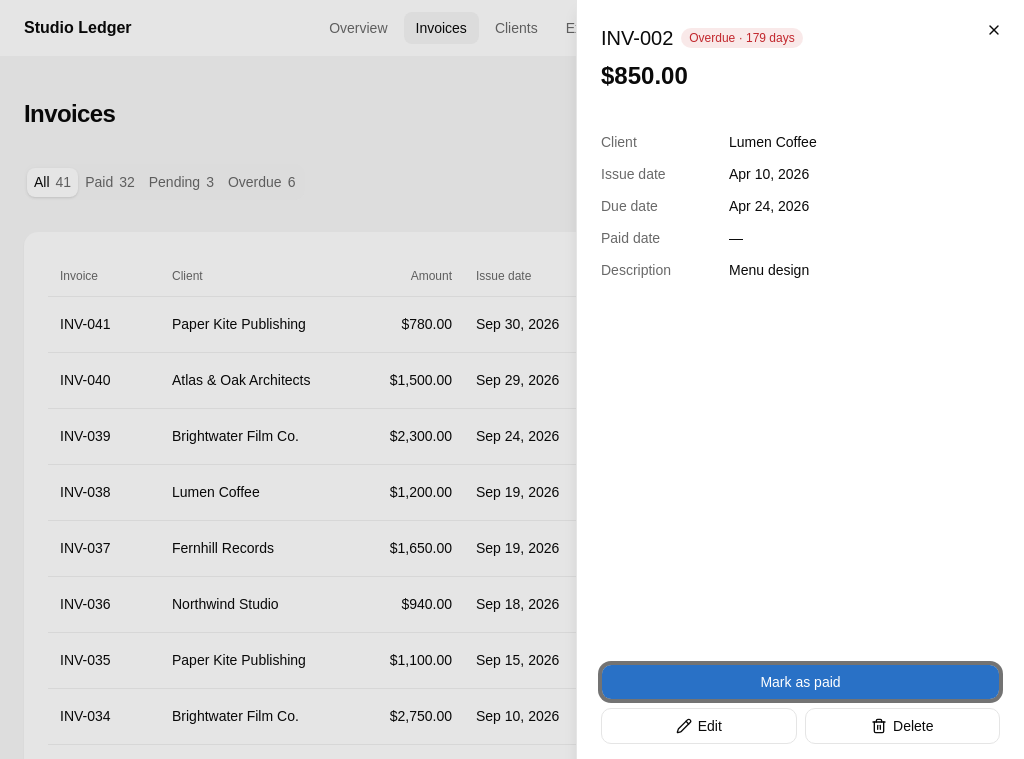
Test: Saving, clearing and first render (DATA-3, DATA-7, UX-3) › DATA-3: a change that cannot be saved shows the message once, and the app keeps working
Click the button "Delete": {"x": 902, "y": 726} [804,708,1000,744]
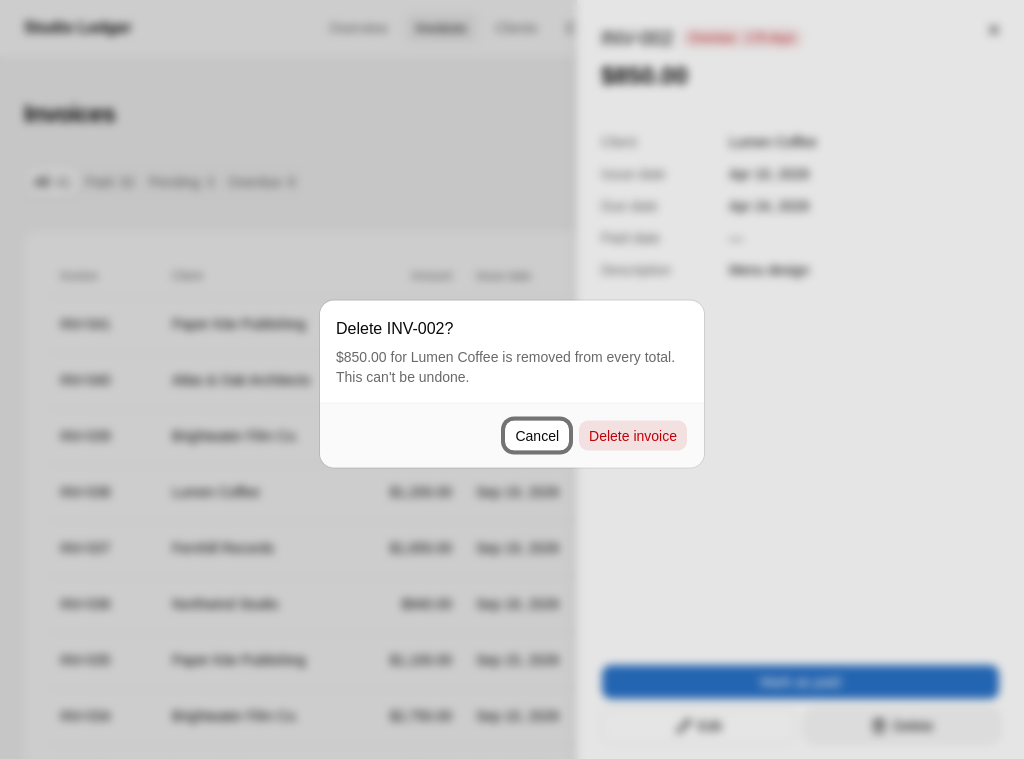
Click the button "Delete invoice": {"x": 633, "y": 436} [578,420,688,452]
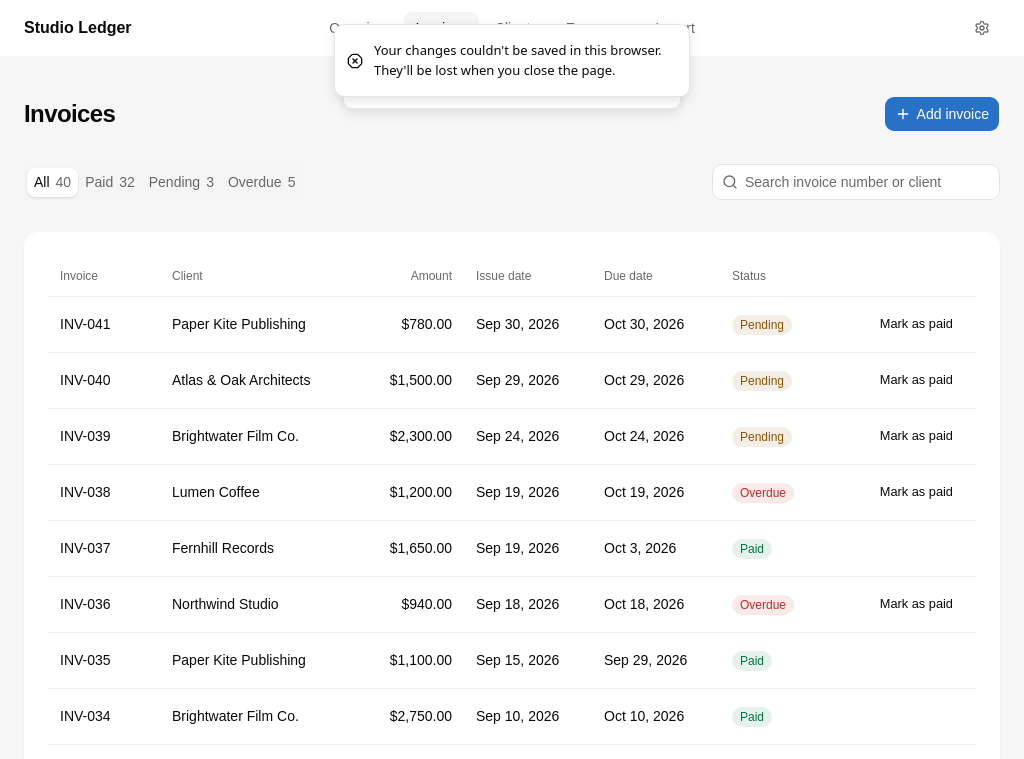
Expected: the text "Your changes couldn't be saved in this browser. They'll be lost when you close the page." is shown, [374,41,662,78]
Expected: the tab "All 40" is shown, [27,168,78,196]
# A second failed save doesn't repeat the warning.
Click the link "INV-041": {"x": 85, "y": 324} [60,316,111,332]
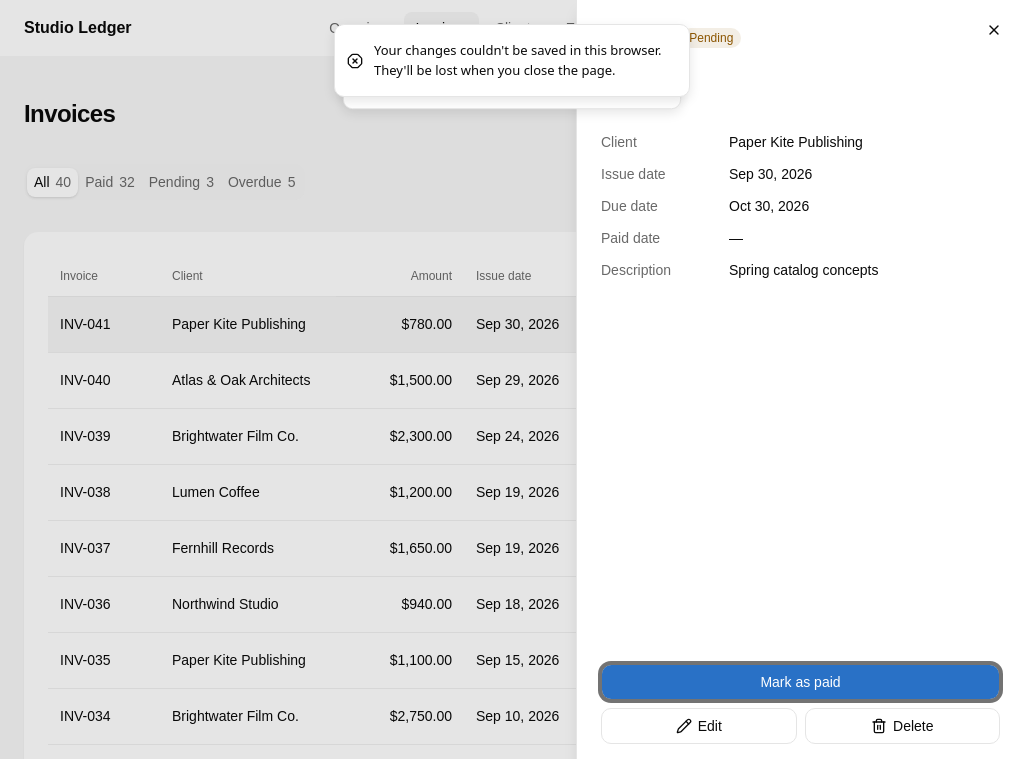
Click the button "Delete": {"x": 902, "y": 726} [804,708,1000,744]
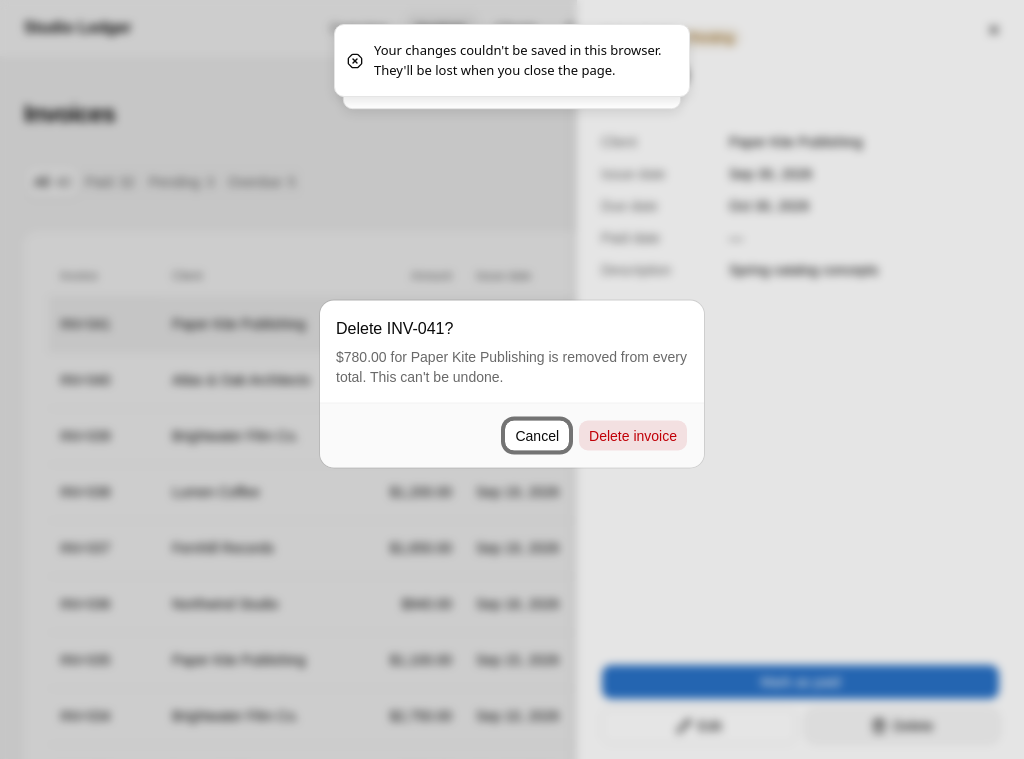
Click the button "Delete invoice": {"x": 633, "y": 436} [578,420,688,452]
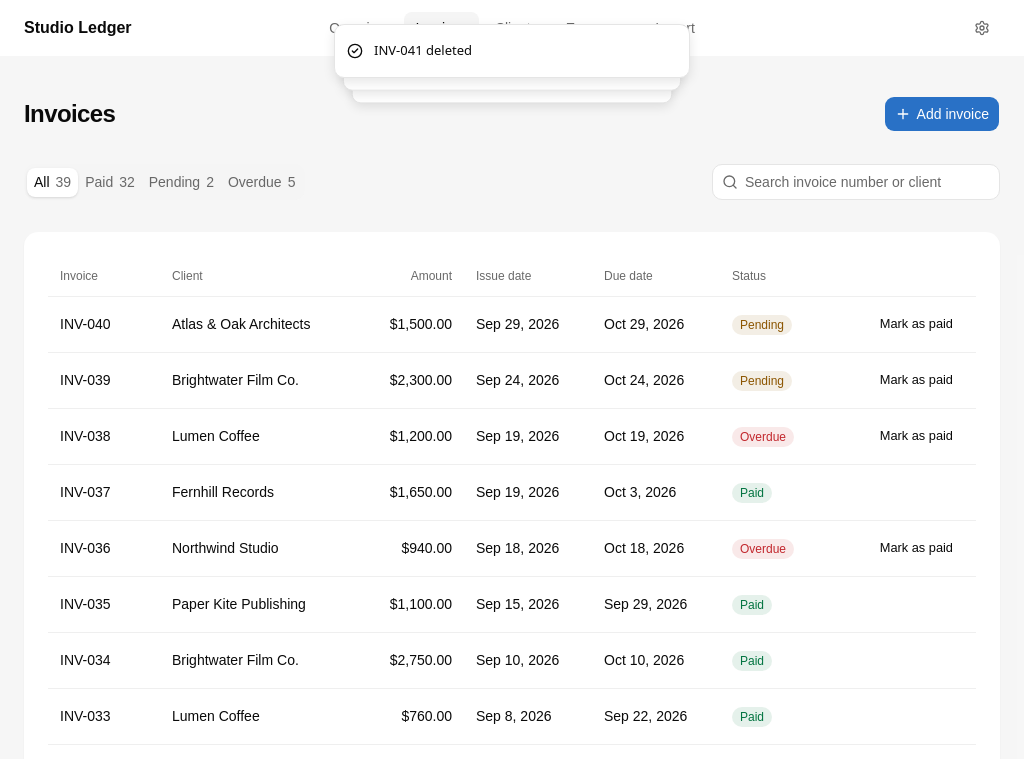
Expected: the tab "All 39" is shown, [27,168,78,196]
